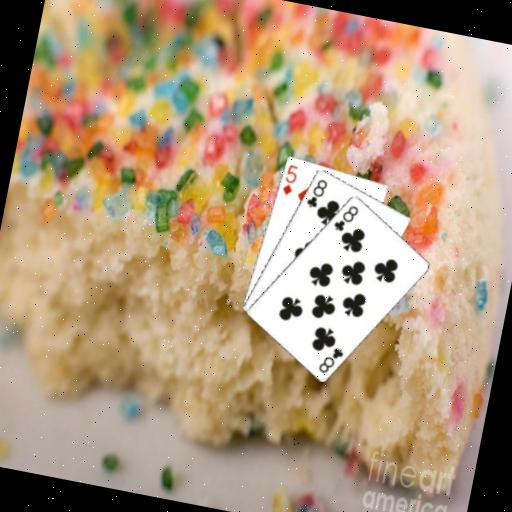5D: (279, 161, 301, 198)
8C: (315, 341, 347, 377), (330, 200, 361, 236), (303, 174, 331, 211)
